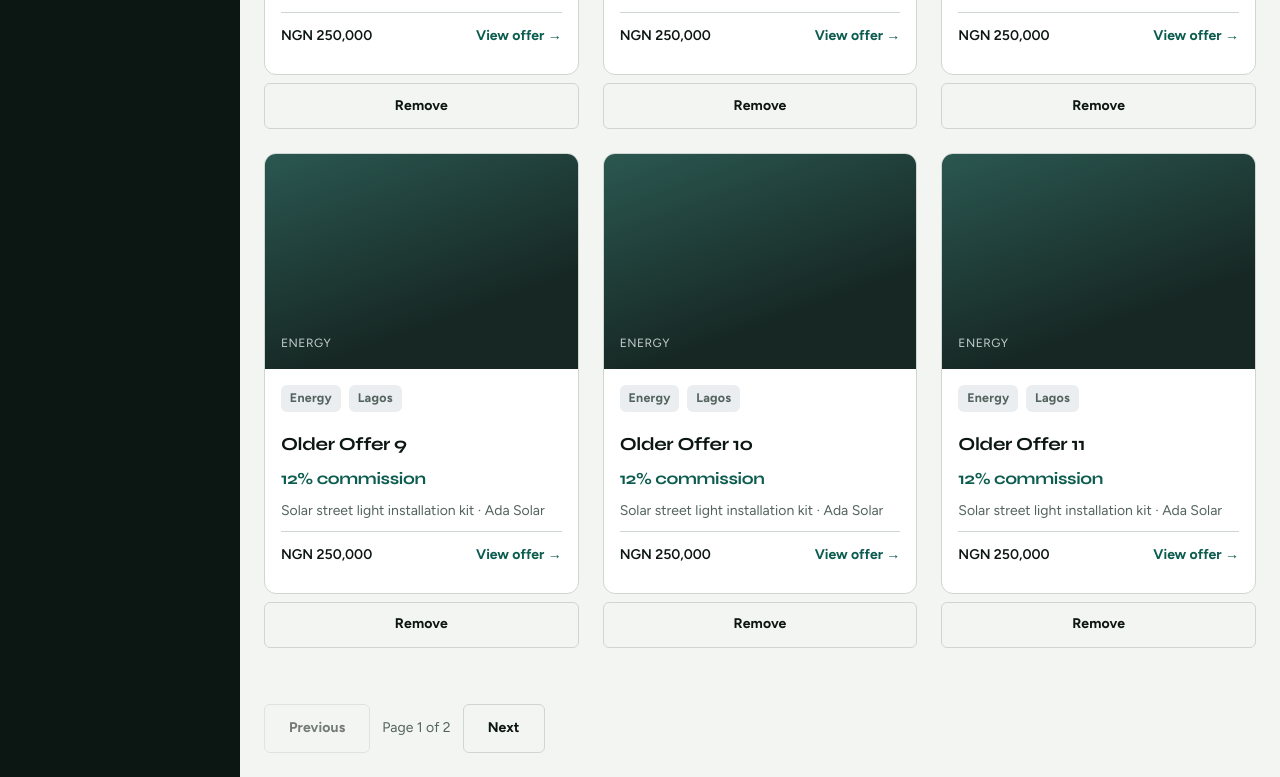
it: lists saved campaigns newest first and paginates
This screenshot has width=1280, height=777.
(page scrolled)
Expected: the link "older offer 12" is not shown
Click the button "Next" at (504, 728), box [463,704,545,753]
(page scrolled)
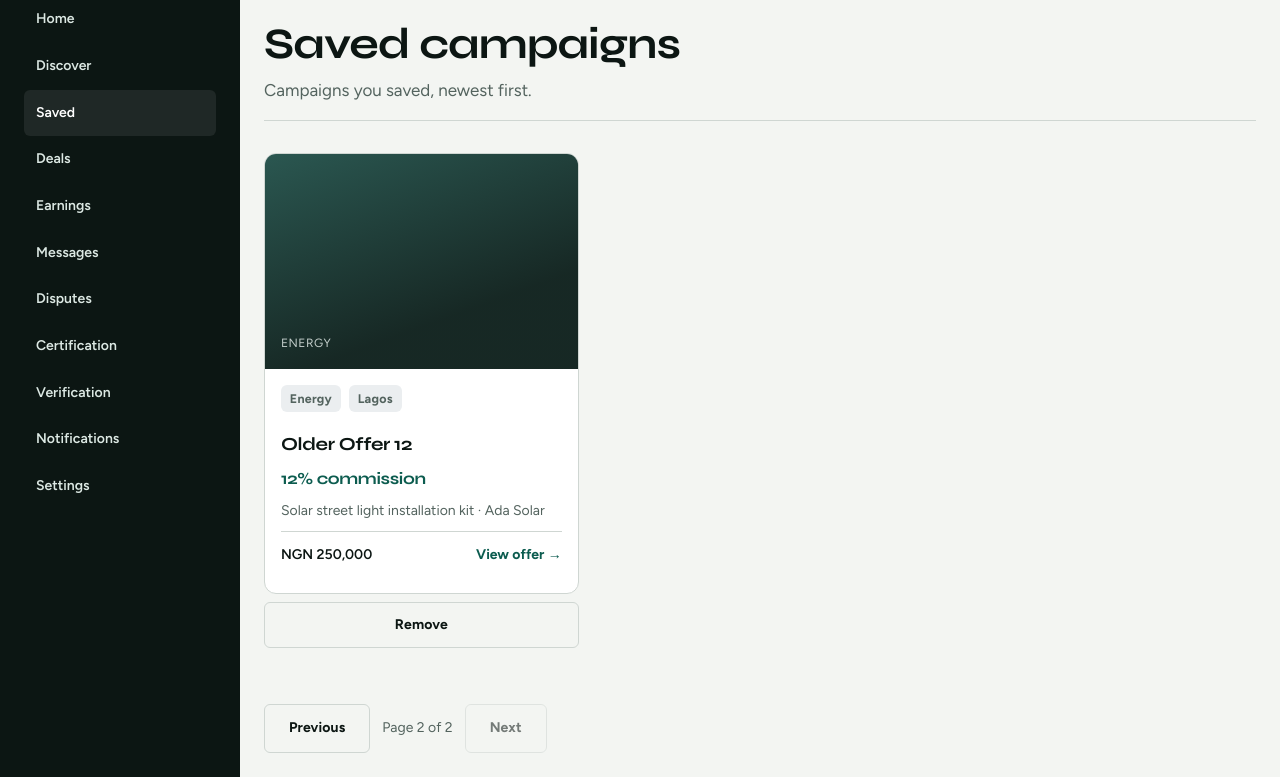
Now the link "Older Offer 12" is shown, box [264,154,579,594]
Now the text "Page 2 of 2" is shown, box [382,717,453,740]
